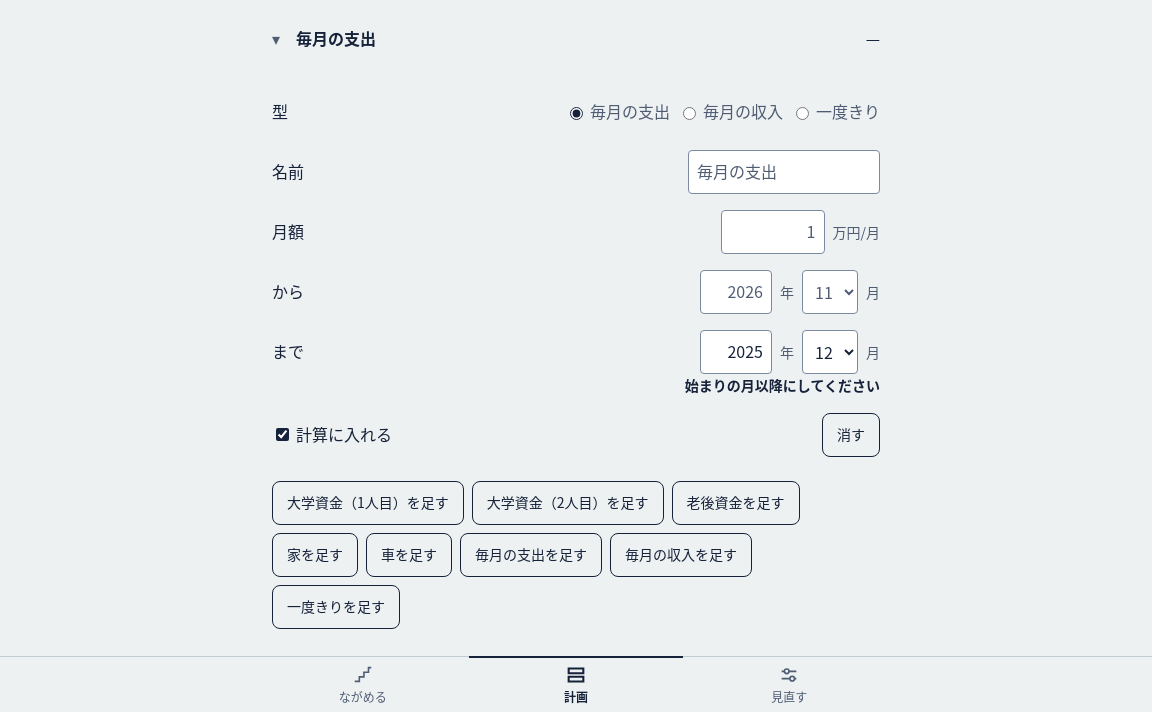
Test: 計画（T6） › 毎月のカードの終わりを始まりより前にすると、保存を止めて理由を出す。直すと保存する
Earlier steps of the test are not shown.
(page scrolled)
Replace the text in the field labelled "まで" with "2028" at {"x": 736, "y": 352}, box x1=700 y1=330 x2=772 y2=374
(page scrolled)
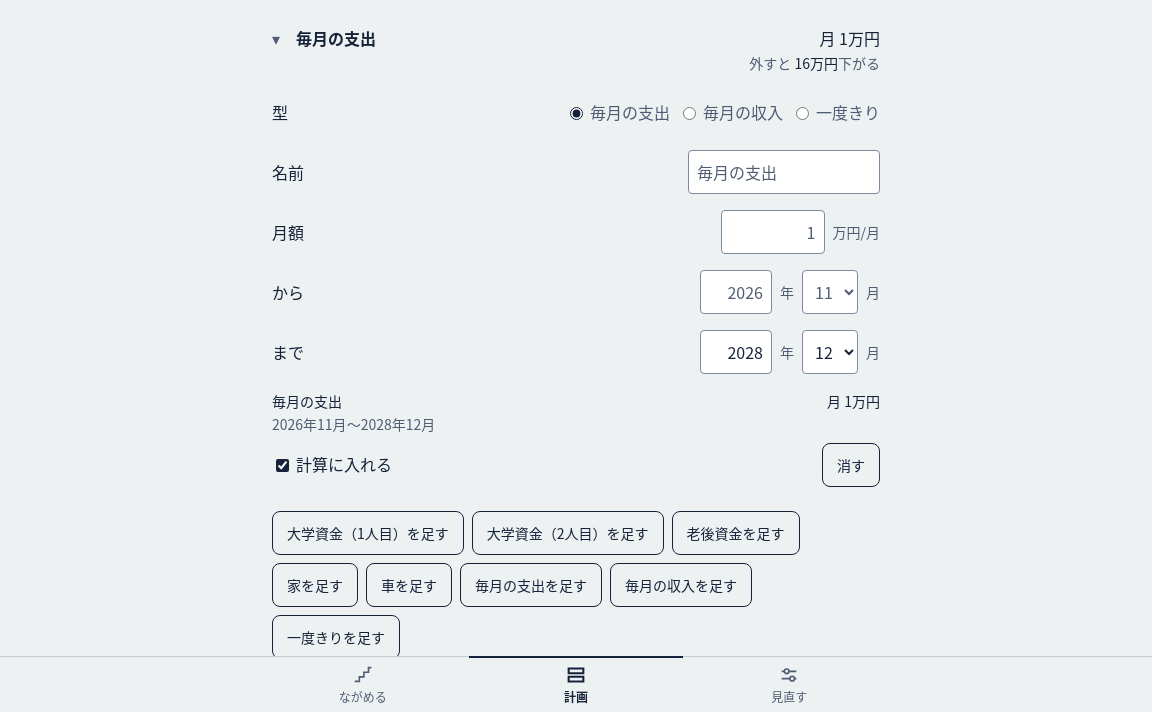
Expected: the message "始まりの月以降にしてください" is gone
